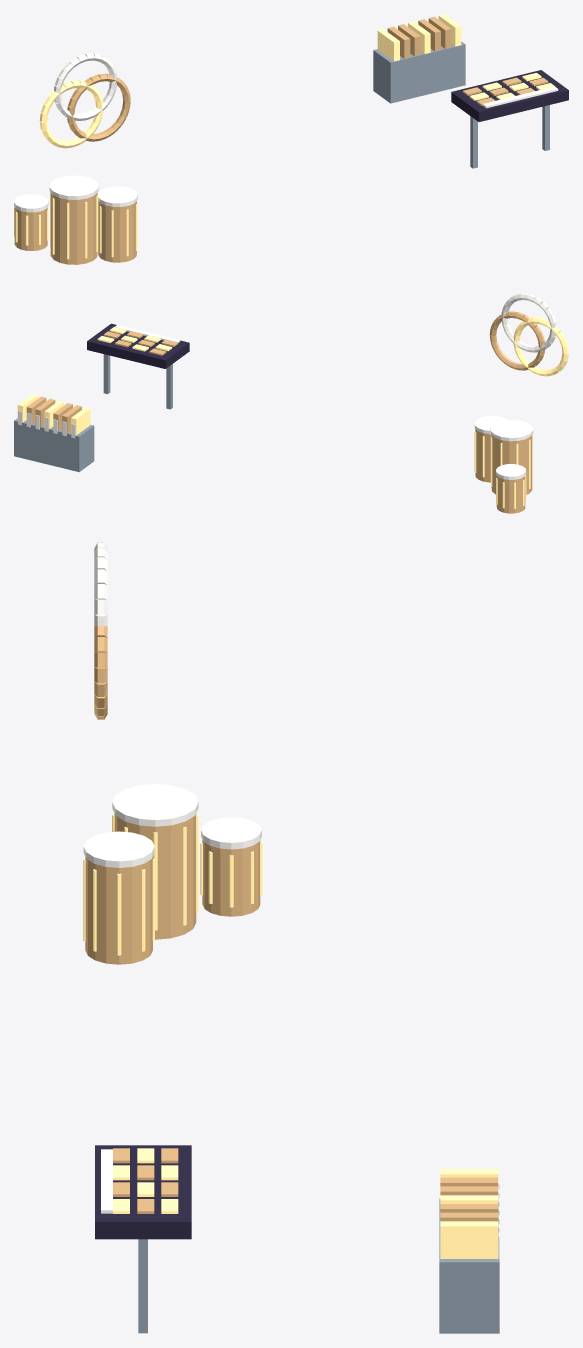
Rendered from studio-props-afrobeats.glb.
3 renders of one model, top to bottom at view 1: azimuth 30°, elevation 25°; view 2: azimuth 150°, elevation 25°; view 3: azimuth 270°, elevation 25°, orthographic. The views are drawn at different scales.
Visible parts, largest first — view 1: afrobeats original studio collection; view 2: afrobeats original studio collection; view 3: afrobeats original studio collection.
Boxes of the visible parts, x1,y1,x2,y2 form: afrobeats original studio collection: (14,14,568,264); afrobeats original studio collection: (14,293,568,513); afrobeats original studio collection: (83,542,499,1333).
Bounding box in the file's own units: 8.77 × 3.49 × 3.45.
